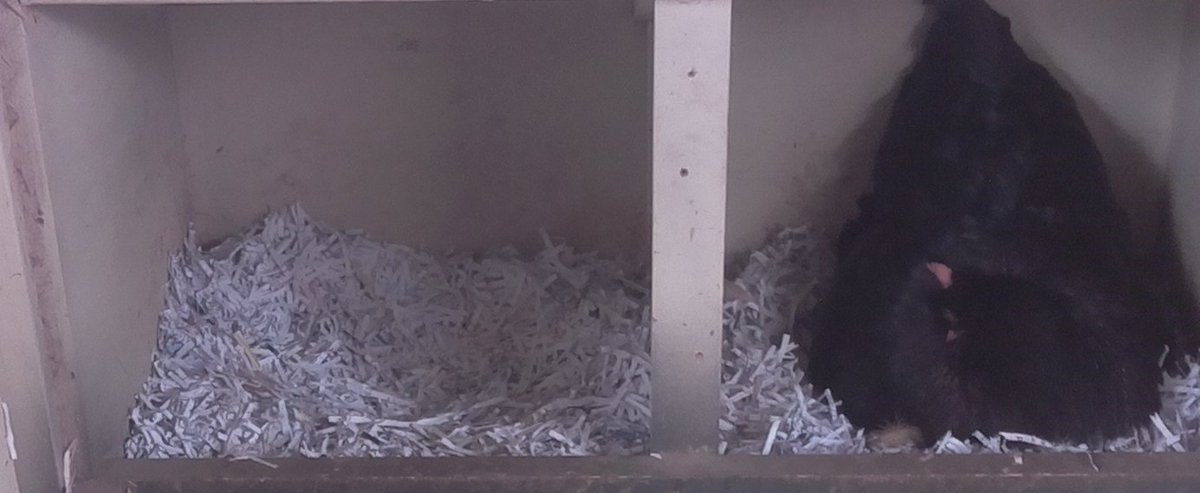hen: (808, 10, 1186, 441)
